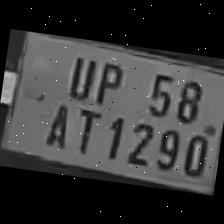0: (177, 124, 214, 178)
1: (97, 109, 129, 162)
2: (120, 114, 154, 168)
5: (143, 67, 177, 118)
8: (171, 72, 206, 124)
9: (151, 122, 182, 172)
A: (38, 97, 74, 150)
P: (90, 53, 127, 107)
T: (67, 104, 102, 156)
U: (61, 47, 99, 101)
